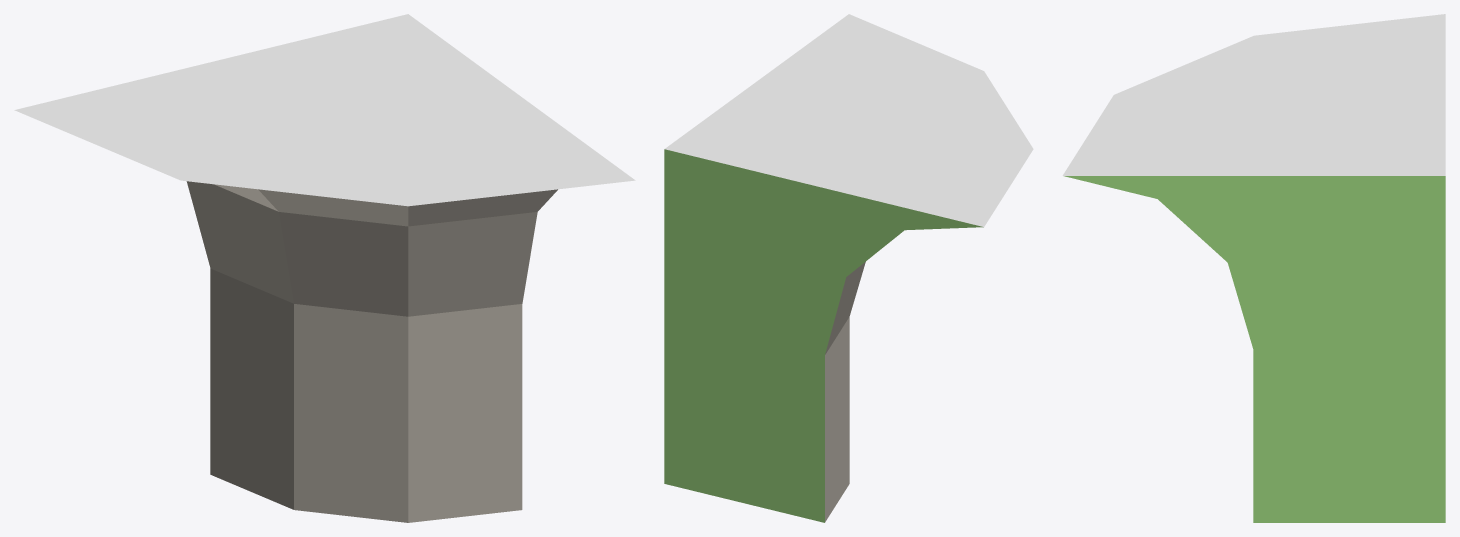
File: Wall_Curve_Outer_2x2_Top.glb
3 renders of one model, left to right at view 1: azimuth 30°, elevation 25°; view 2: azimuth 150°, elevation 25°; view 3: azimuth 270°, elevation 25°, orthographic. The views are drawn at different scales.
Visible parts, largest first — view 1: Wall_Curve_Outer_2x2_Top; view 2: Wall_Curve_Outer_2x2_Top; view 3: Wall_Curve_Outer_2x2_Top.
Boxes of the visible parts, left/top/right/bottom form: Wall_Curve_Outer_2x2_Top: left=14, top=14, right=635, bottom=522; Wall_Curve_Outer_2x2_Top: left=664, top=14, right=1033, bottom=522; Wall_Curve_Outer_2x2_Top: left=1062, top=14, right=1445, bottom=522.
Bounding box in the file's own units: 200 × 200 × 200.
